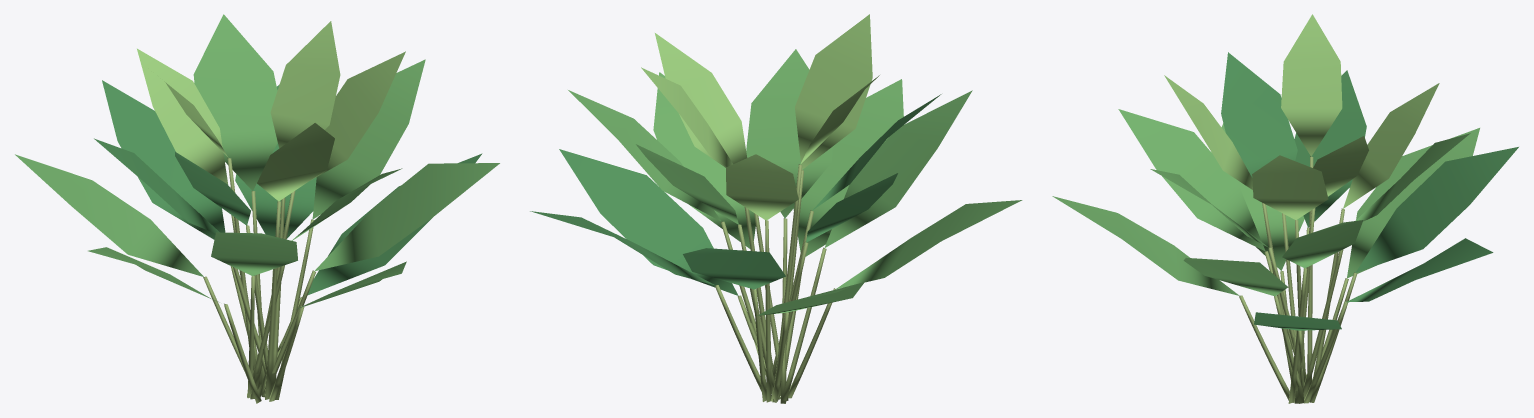
File: SM_PlantPotLod2.fbx
3 views of the same model, side by side, from view 1: azimuth 30°, elevation 25°; view 2: azimuth 150°, elevation 25°; view 3: azimuth 270°, elevation 25° (orthographic). The views are drawn at different scales.
Parts seen in each view (by area): view 1: PlantPotLod2; view 2: PlantPotLod2; view 3: PlantPotLod2.
Boxes of the visible parts, x1,y1,x2,y2 form: PlantPotLod2: (15, 14, 499, 403); PlantPotLod2: (530, 14, 1022, 403); PlantPotLod2: (1052, 14, 1518, 403).
Size of the model in its own units: 1.26 by 0.9961 by 1.26.
